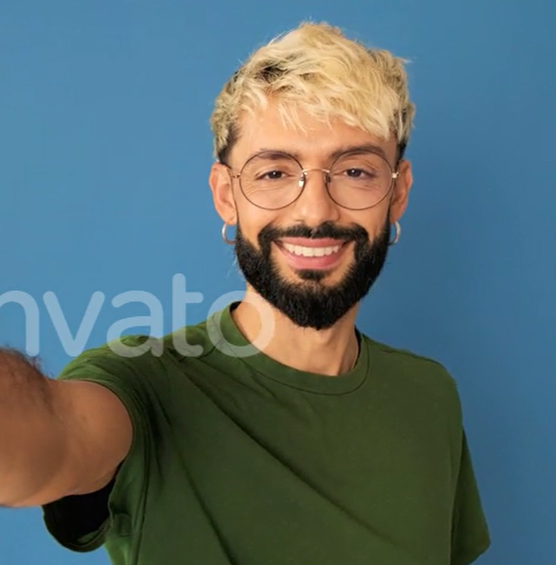human: (4, 19, 488, 564)
